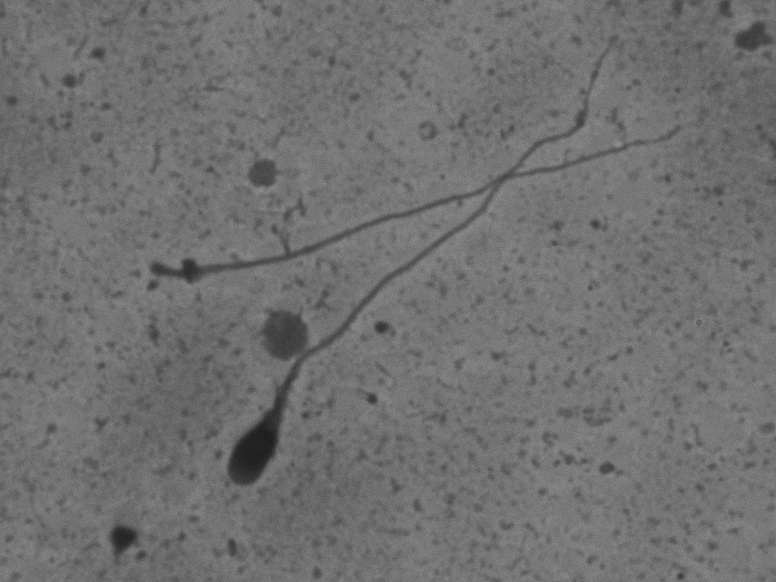Abnormal: (214, 28, 631, 498)
